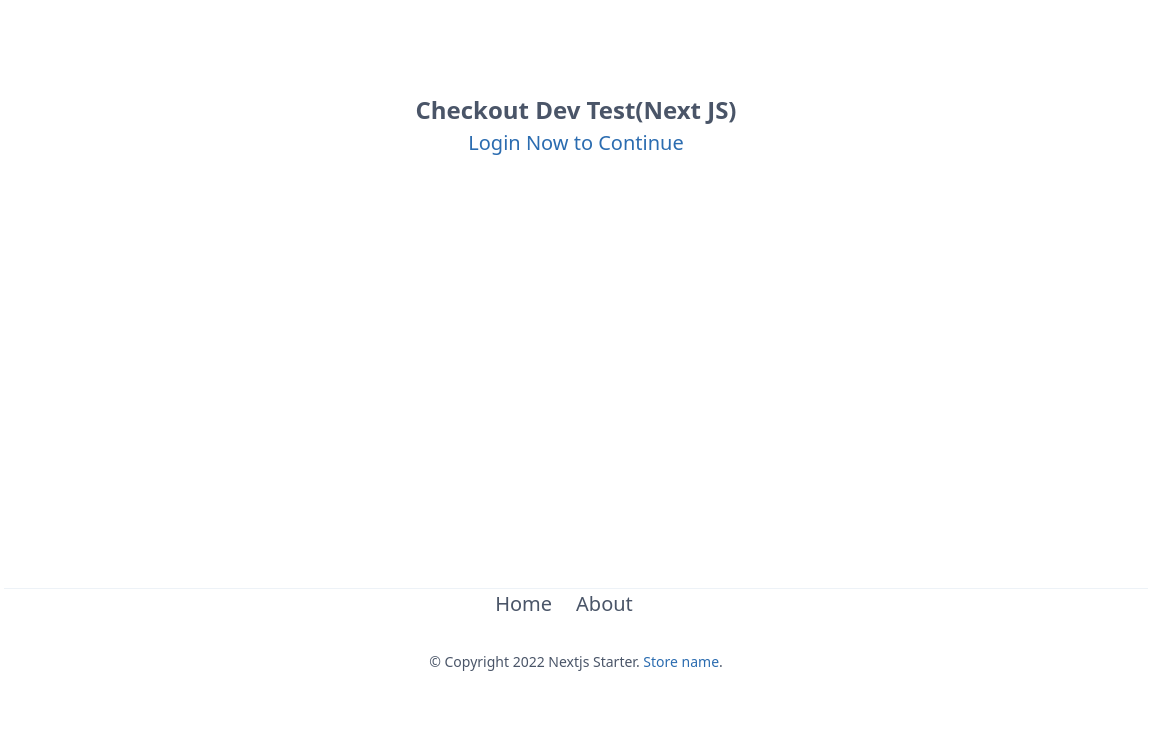
it: Navigation › Static pages › should navigate to the about page
The image size is (1152, 732).
Expected: the heading "Checkout Dev Test(Next JS)" is shown, left=416, top=93, right=736, bottom=126
Note: Find a link containing "About" text and click it
Click the link "About" at (605, 604), box left=576, top=590, right=633, bottom=617
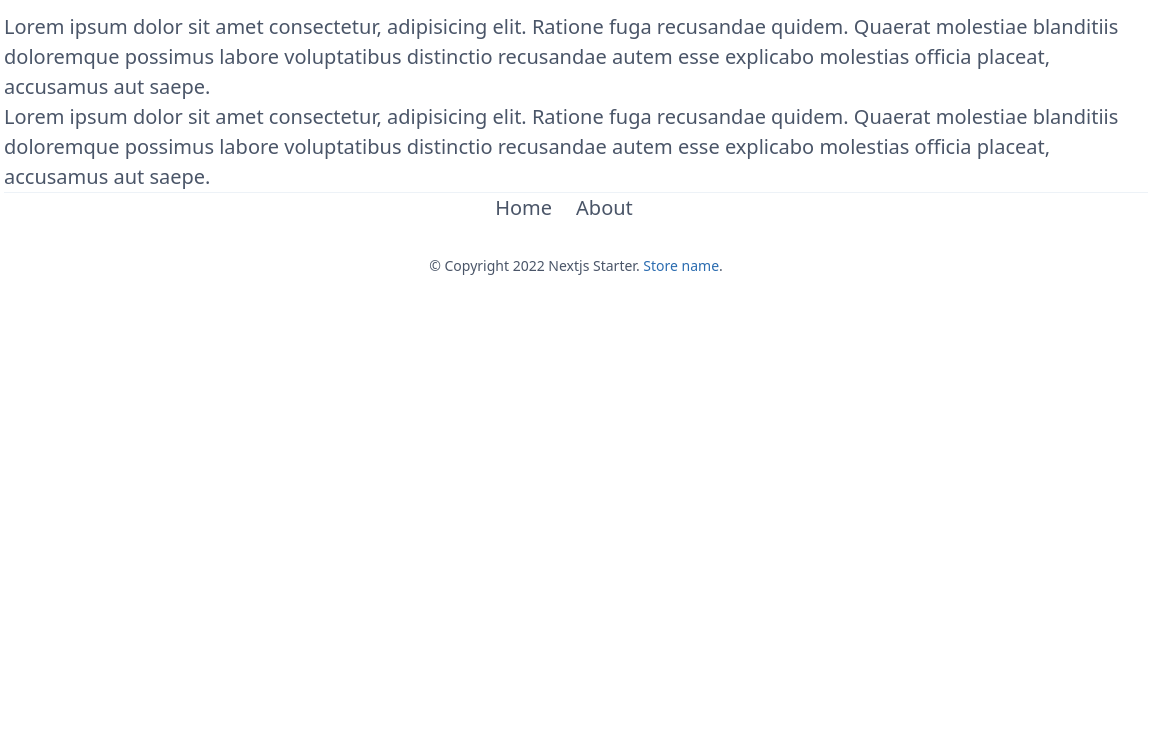
Now the text "Lorem ipsum dolor sit amet" is shown 2 times, box left=4, top=12, right=1148, bottom=102; left=4, top=102, right=1148, bottom=192
